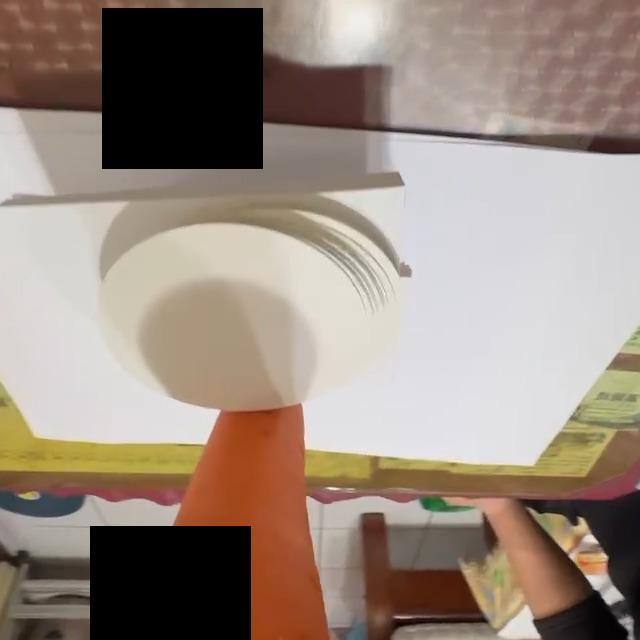carrot: (131, 406, 341, 640)
